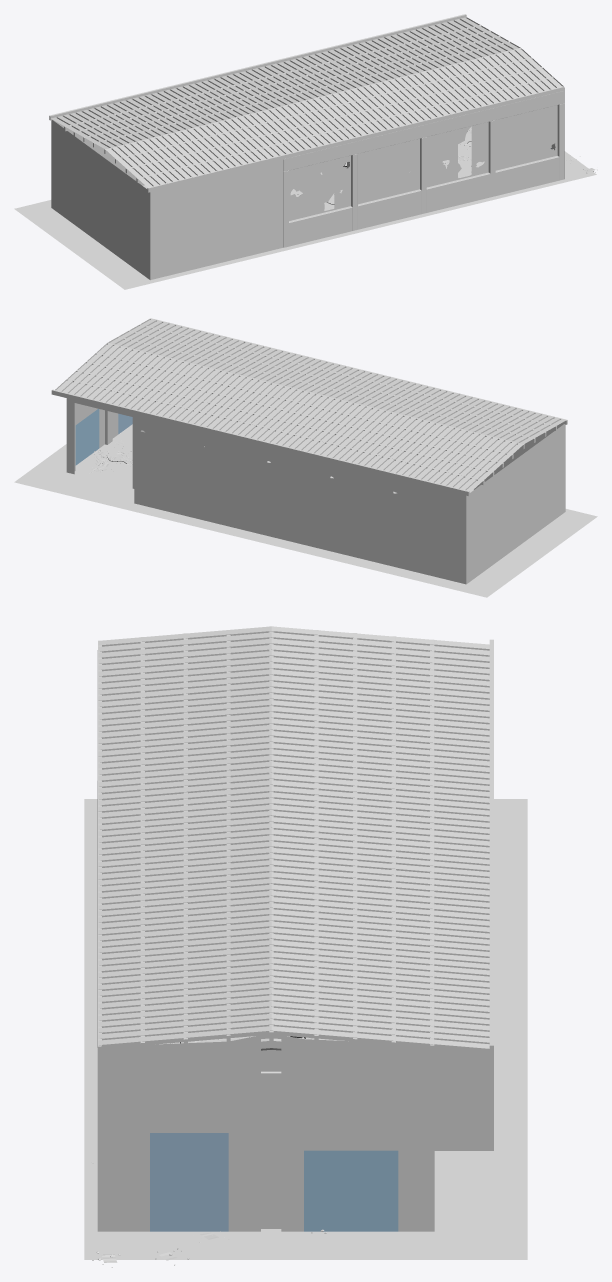
Rendered from old_factory.fbx.
3 views of the same model, one above another, from view 1: azimuth 30°, elevation 25°; view 2: azimuth 150°, elevation 25°; view 3: azimuth 270°, elevation 25° (orthographic). The views are drawn at different scales.
Parts seen in each view (by area): view 1: Plane.001, Plane.006, Plane.005, Plane.004, Cube, Plane, Cube.002, Cube.005, TexturesCom_WindowsBacklit0019_13_M, TexturesCom_WindowsBacklit0019_15_M, TexturesCom_WindowsBacklit0019_12_M, TexturesCom_WindowsBacklit0019_14_M (+4 smaller); view 2: Plane.002, Plane.006, Plane.001, Plane, Plane.004, TexturesCom_WindowsBacklit0019_13_M.002, Cube.008, Cube.005, Cube.006, TexturesCom_DoorsWoodBarn0017_M, Plane.003, Plane.005; view 3: Plane.006, Plane.001, Plane.003, Plane, TexturesCom_DoorsRollup0044_M, TexturesCom_DoorsWoodBarn0017_M, Plane.002, Cube.001, Cube.005, Cube.006, Cube.003, Cube.008 (+1 smaller).
Boxes of the visible parts, bbox=[...] form: Plane.001: bbox=[105, 48, 563, 188]; Plane.006: bbox=[51, 17, 520, 149]; Plane.005: bbox=[150, 159, 283, 279]; Plane.004: bbox=[51, 120, 150, 279]; Cube: bbox=[289, 155, 559, 246]; Plane: bbox=[14, 126, 596, 289]; Cube.002: bbox=[283, 91, 564, 171]; Cube.005: bbox=[104, 48, 564, 192]; TexturesCom_WindowsBacklit0019_13_M: bbox=[495, 105, 557, 170]; TexturesCom_WindowsBacklit0019_15_M: bbox=[358, 138, 419, 204]; TexturesCom_WindowsBacklit0019_12_M: bbox=[289, 155, 350, 220]; TexturesCom_WindowsBacklit0019_14_M: bbox=[426, 122, 488, 187]; Plane.002: bbox=[66, 398, 466, 584]; Plane.006: bbox=[55, 343, 523, 492]; Plane.001: bbox=[108, 318, 566, 444]; Plane: bbox=[14, 424, 597, 597]; Plane.004: bbox=[466, 424, 565, 584]; TexturesCom_WindowsBacklit0019_13_M.002: bbox=[139, 418, 448, 508]; Cube.008: bbox=[51, 389, 469, 495]; Cube.005: bbox=[107, 318, 567, 449]; Cube.006: bbox=[66, 352, 513, 485]; TexturesCom_DoorsWoodBarn0017_M: bbox=[75, 409, 99, 465]; Plane.003: bbox=[69, 364, 118, 447]; Plane.005: bbox=[474, 423, 563, 489]; Plane.006: bbox=[271, 626, 493, 1052]; Plane.001: bbox=[98, 626, 271, 1047]; Plane.003: bbox=[97, 1035, 434, 1231]; Plane: bbox=[84, 799, 527, 1259]; TexturesCom_DoorsRollup0044_M: bbox=[150, 1133, 228, 1231]; TexturesCom_DoorsWoodBarn0017_M: bbox=[304, 1150, 398, 1231]; Plane.002: bbox=[434, 1048, 493, 1150]; Cube.001: bbox=[98, 1080, 120, 1231]; Cube.005: bbox=[98, 626, 273, 1046]; Cube.006: bbox=[314, 630, 434, 1045]; Cube.003: bbox=[419, 1080, 433, 1231]; Cube.008: bbox=[489, 639, 493, 1053].
Size of the model in its own units: 961 by 192 by 384.
